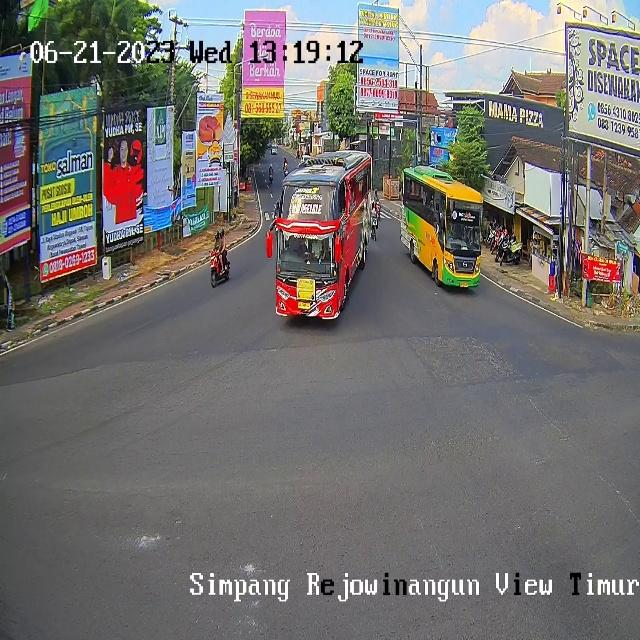bus: (210, 249, 230, 288), (372, 212, 378, 242), (375, 200, 383, 220)
car: (277, 150, 373, 320), (401, 166, 482, 289)
